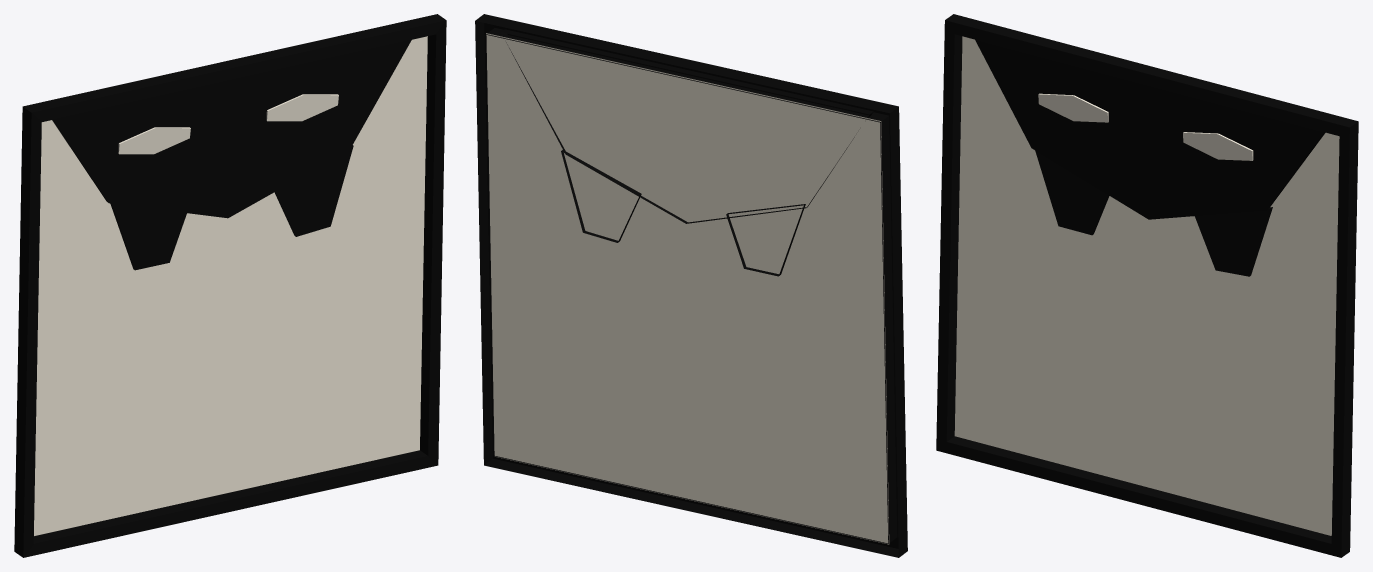
File: Childroom2_Picture3.glb
The picture shows the model from 3 angles, left to right: view 1: azimuth 30°, elevation 25°; view 2: azimuth 150°, elevation 25°; view 3: azimuth 330°, elevation 25°; orthographic projection. The views are drawn at different scales.
Parts seen in each view (by area): view 1: Childroom2_Picture3; view 2: Childroom2_Picture3; view 3: Childroom2_Picture3.
Part boxes in pixels (<box>): Childroom2_Picture3: <box>14,14,446,557</box>; Childroom2_Picture3: <box>475,14,907,557</box>; Childroom2_Picture3: <box>936,14,1358,557</box>.
Size of the model in its own units: 0.8095 by 0.8252 by 0.0361.
1 material, 1 textured.
